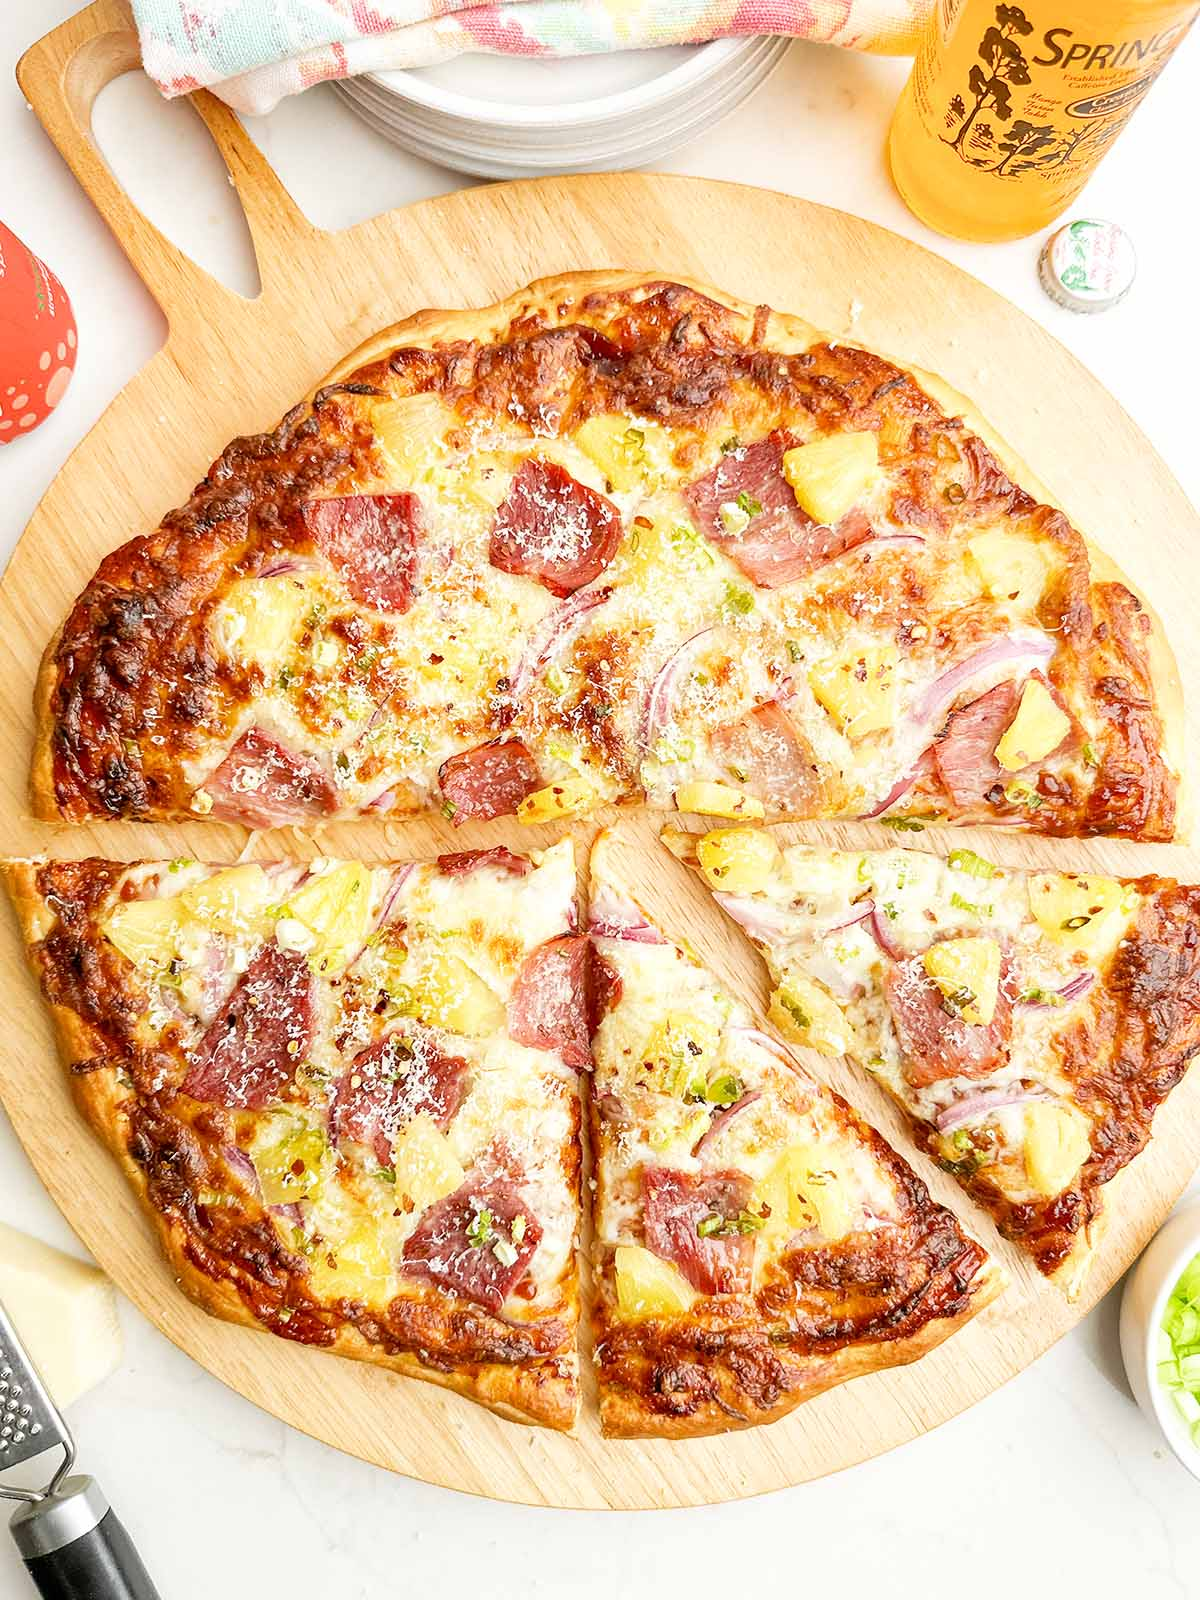Ham: (674, 437, 876, 583), (174, 952, 318, 1104), (330, 1034, 474, 1186), (484, 456, 635, 598), (876, 935, 1015, 1081), (938, 682, 1087, 806), (505, 920, 620, 1080), (402, 1188, 551, 1310), (630, 1160, 751, 1303), (200, 732, 349, 839), (297, 494, 425, 615), (705, 704, 826, 821), (429, 745, 561, 819)
Pineapple: (776, 427, 886, 519), (769, 968, 861, 1065), (1022, 863, 1131, 945), (384, 1109, 469, 1213), (84, 898, 203, 973), (915, 937, 1007, 1029), (282, 860, 374, 952), (218, 576, 313, 665), (174, 855, 275, 937), (807, 648, 897, 737), (633, 1007, 720, 1096), (776, 1141, 853, 1240), (313, 1218, 397, 1308), (566, 409, 658, 491), (410, 955, 505, 1032), (364, 384, 444, 476), (246, 1126, 333, 1206), (608, 1240, 697, 1315), (995, 682, 1071, 769), (700, 824, 779, 898), (677, 766, 769, 829), (451, 449, 541, 511), (521, 769, 597, 831)
Pizza: (39, 273, 1200, 1439)
